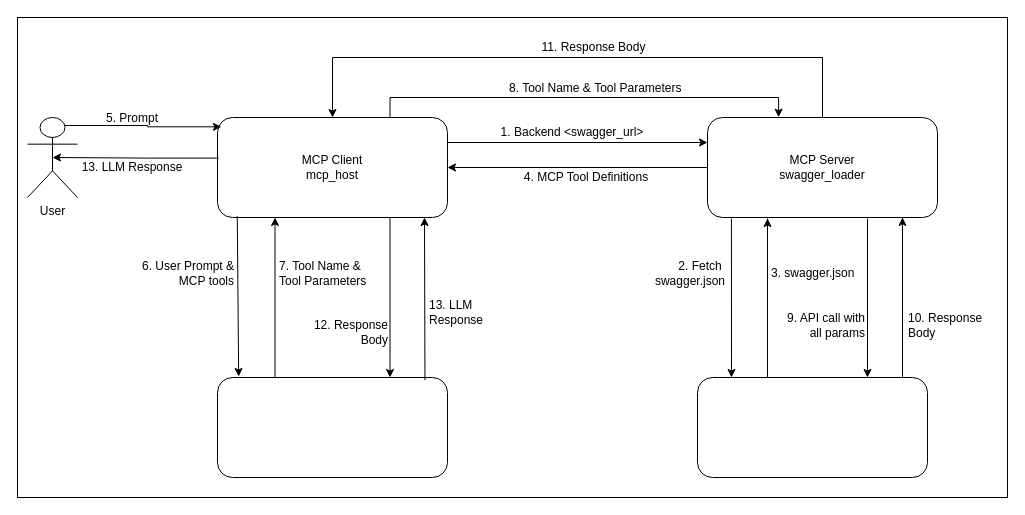
Some shapes in this 1025 by 515 pixel diagram are drawn without their labels. Here are the shapes that lost their labels. From the top down, the box of each, then its label:
(216, 376, 448, 478): LLM Model ollama llama:3.2
(696, 376, 928, 478): Backend Server backend-demo-go
